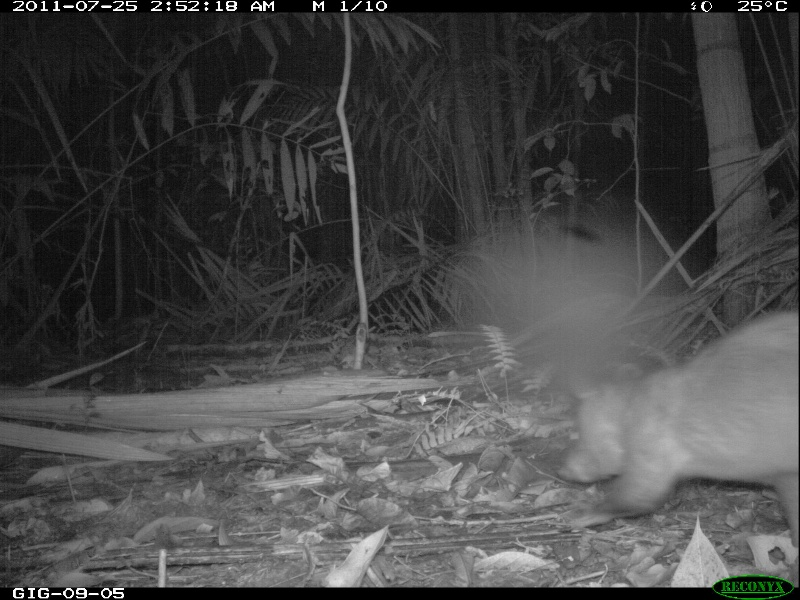opossum: (559, 307, 800, 548)
